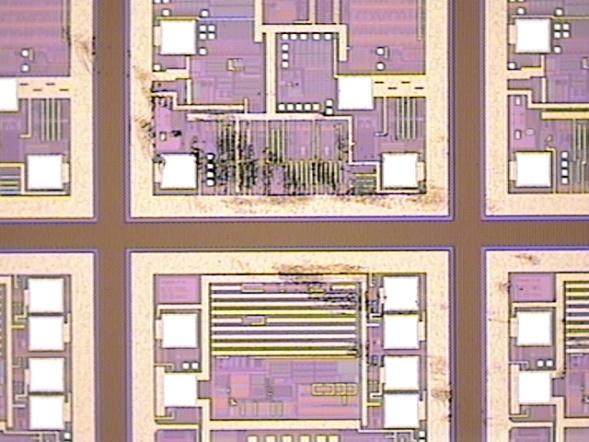SCRATCH: (56, 22, 454, 425)
